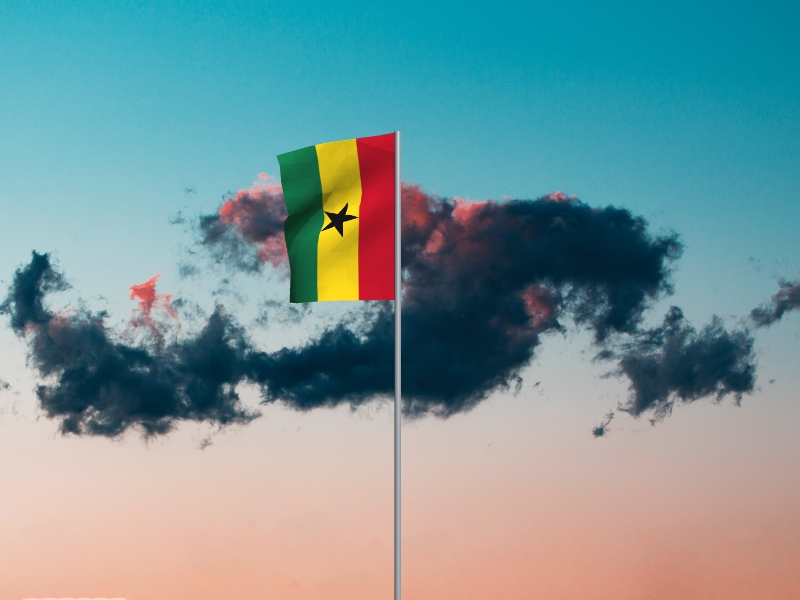gh: (276, 133, 395, 305)
